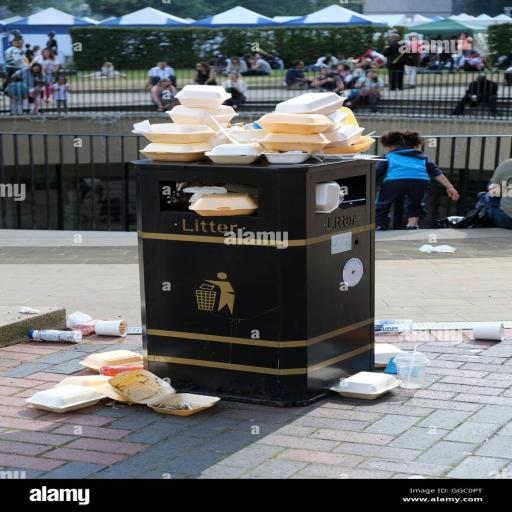Basura_fuera: (27, 85, 430, 415), (28, 319, 127, 350), (481, 322, 503, 334)
